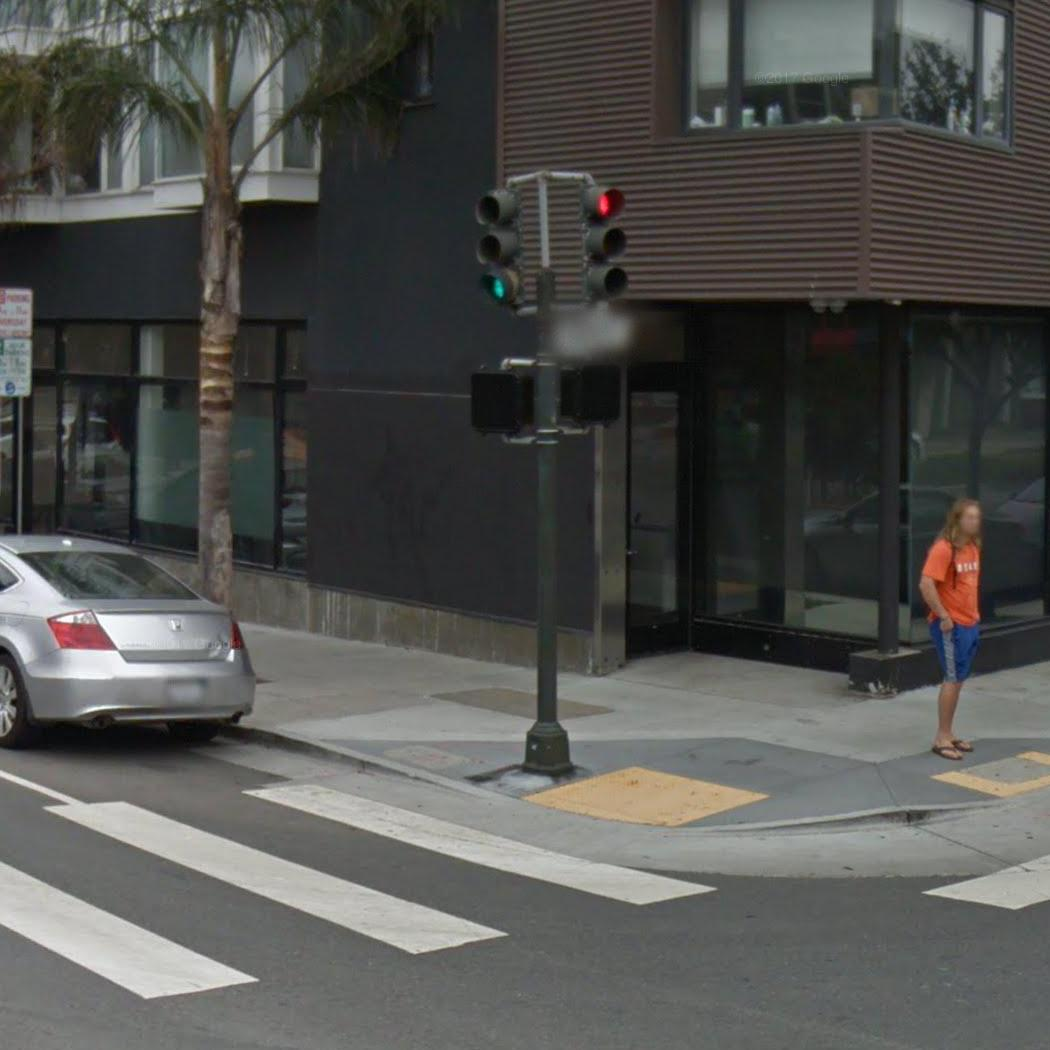2 Hour Parking: (0, 338, 35, 400)
No Parking: (0, 285, 34, 340)
